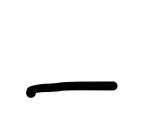minus: (26, 82, 119, 95)
